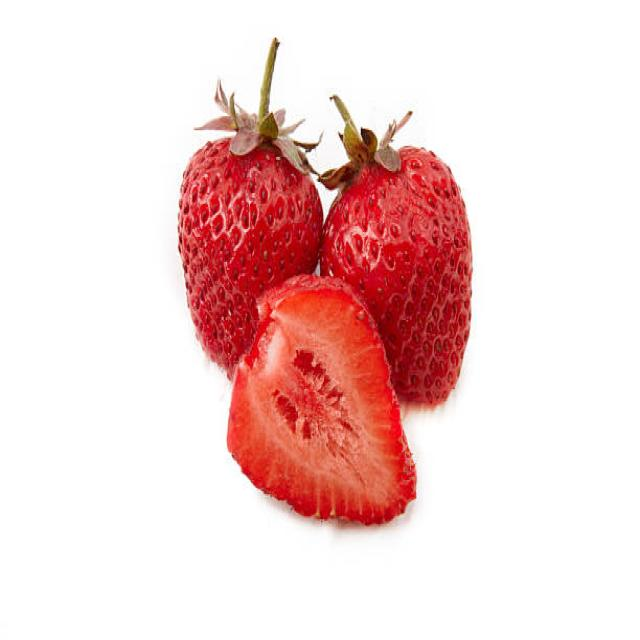Healthy Fruit: (230, 275, 418, 525), (322, 148, 472, 409), (178, 134, 323, 373)
